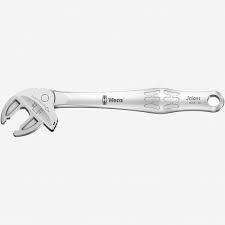wrench: (1, 72, 225, 146)
